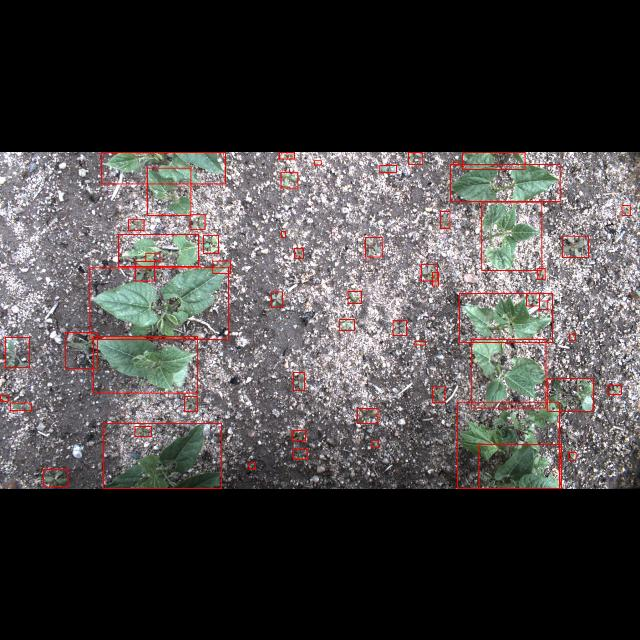crop: (90, 267, 228, 339), (457, 402, 559, 488), (103, 423, 221, 489), (92, 336, 198, 392), (472, 338, 546, 408), (460, 292, 552, 342), (482, 200, 542, 270), (450, 163, 560, 200), (101, 151, 225, 183), (479, 444, 561, 488), (118, 234, 198, 266), (147, 168, 191, 215), (463, 152, 525, 168)
weed: (548, 378, 594, 412), (66, 332, 98, 368), (5, 337, 29, 368), (562, 235, 588, 257), (44, 469, 68, 487), (136, 260, 154, 280), (366, 236, 382, 256), (280, 171, 298, 187), (358, 408, 378, 422), (421, 264, 437, 280), (204, 234, 218, 252), (213, 260, 231, 272), (293, 372, 305, 390), (185, 396, 198, 412), (393, 320, 407, 334), (348, 290, 362, 304), (190, 214, 204, 228), (433, 386, 445, 402), (134, 426, 152, 436), (440, 210, 450, 228), (10, 402, 32, 410), (408, 151, 422, 163), (526, 293, 540, 305), (128, 219, 144, 229), (340, 318, 354, 329), (292, 430, 306, 440), (272, 292, 282, 306), (293, 449, 307, 459), (379, 164, 396, 172), (608, 386, 622, 394), (294, 247, 304, 257), (538, 300, 548, 310), (146, 253, 160, 260), (622, 203, 630, 214), (280, 152, 294, 158), (432, 271, 438, 285), (568, 452, 576, 460), (538, 268, 544, 278), (372, 439, 378, 447), (415, 341, 425, 345), (249, 463, 255, 469), (569, 333, 575, 339), (0, 396, 8, 400), (281, 231, 285, 237), (314, 160, 320, 164), (454, 160, 458, 163)
